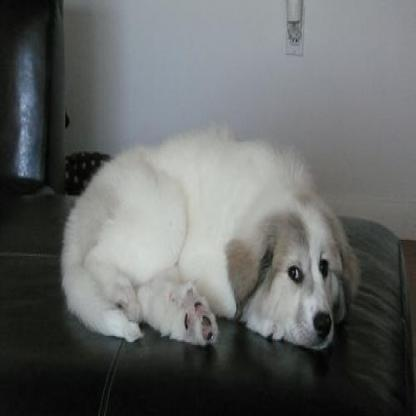Great_Pyrenees: (61, 121, 360, 348)
